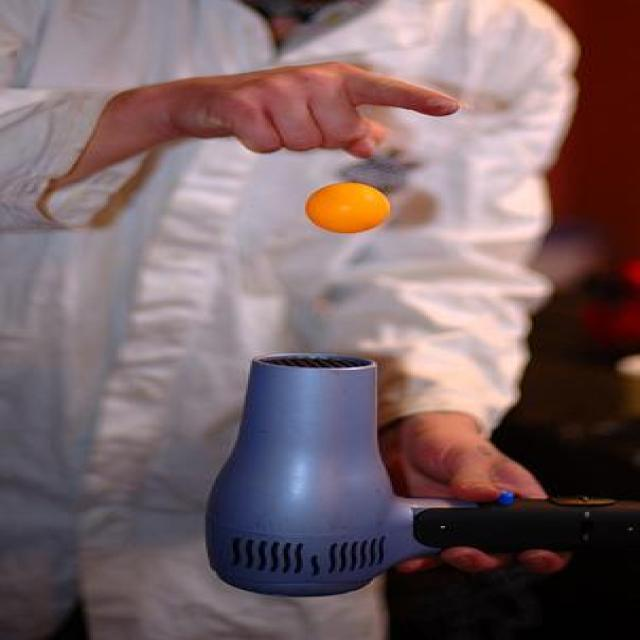ping-pong-ball: (307, 182, 392, 232)
